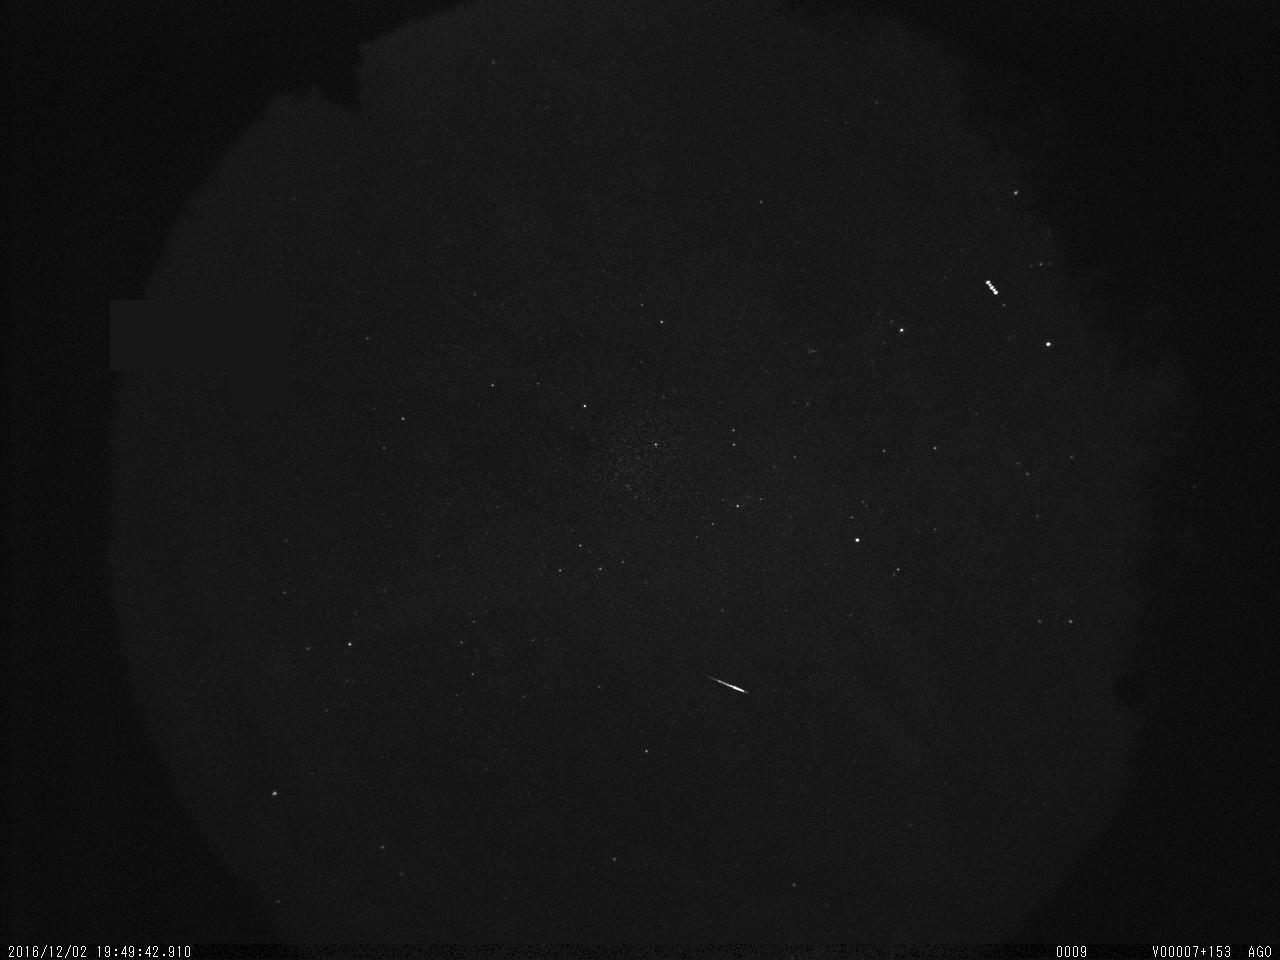meteor: (705, 672, 751, 697)
satelite: (980, 275, 1002, 302)
